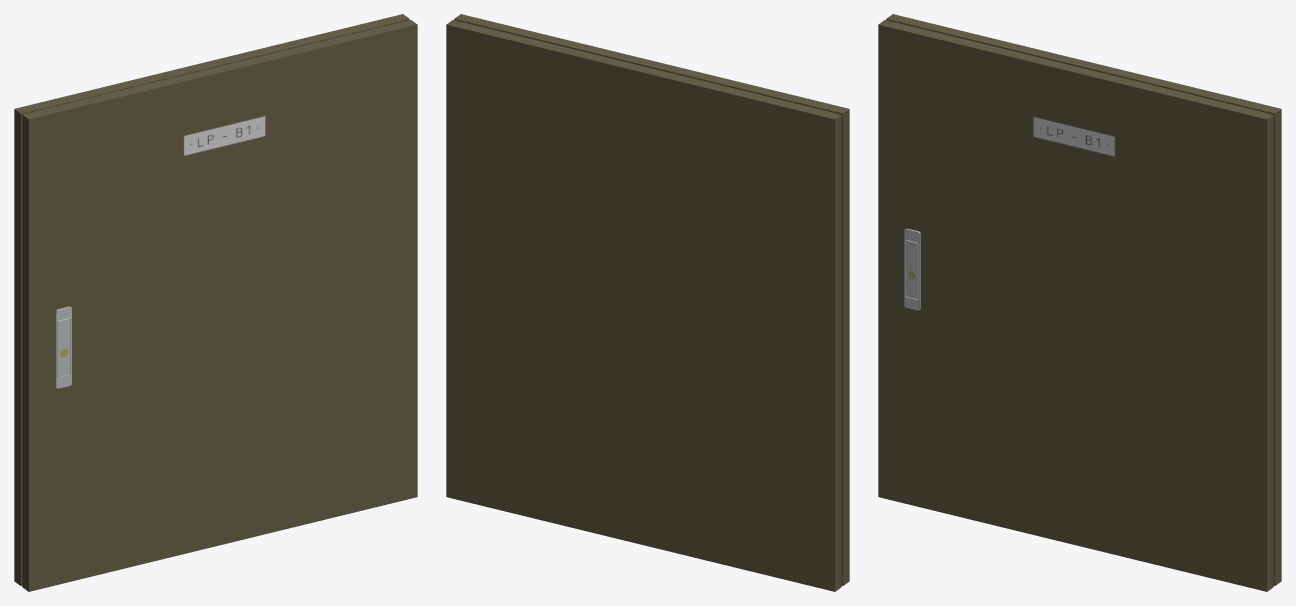
File: LC_3140_switchboard_A_LOD2.fbx
3 views of the same model, side by side, from view 1: azimuth 30°, elevation 25°; view 2: azimuth 150°, elevation 25°; view 3: azimuth 330°, elevation 25° (orthographic).
Parts seen in each view (by area): view 1: LC_3140_sb_A_LOD2; view 2: LC_3140_sb_A_LOD2; view 3: LC_3140_sb_A_LOD2.
Boxes of the visible parts, x1,y1,x2,y2 form: LC_3140_sb_A_LOD2: (14,14,417,591); LC_3140_sb_A_LOD2: (446,14,849,591); LC_3140_sb_A_LOD2: (878,14,1281,591).
Size of the model in its own units: 62 by 72 by 4.28.
Materials: 1 (1 with a texture image).
